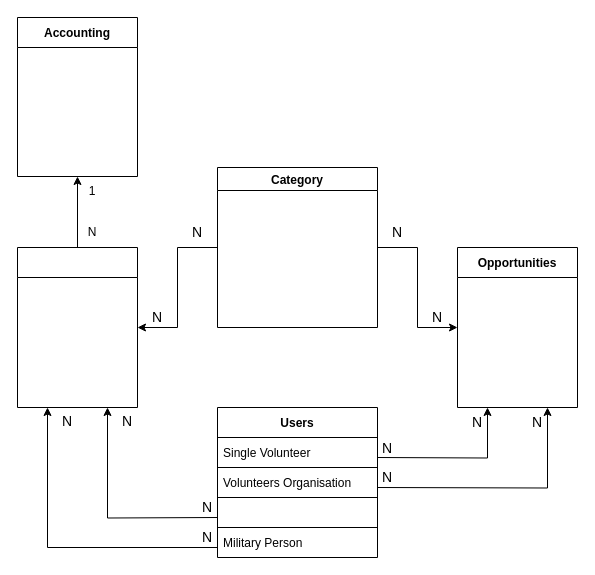
Image size: 595x575. Some labels were removed from this diagram. The box of each missing label's shape, as (x1, y1, x2, y2) in pixels:
Civil Person: (216, 496, 378, 528)
Needs: (16, 246, 138, 408)
